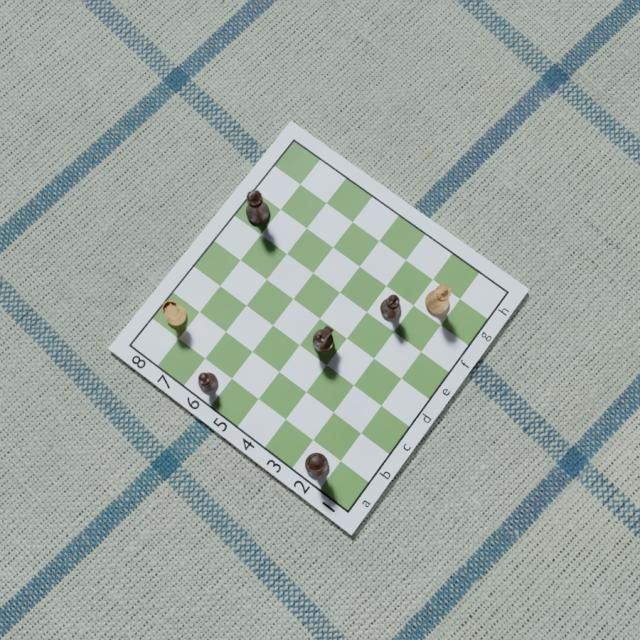black-bishop: (381, 292, 403, 321)
black-king: (245, 189, 270, 227)
black-knight: (310, 325, 333, 355)
black-pawn: (197, 373, 218, 395)
black-queen: (305, 452, 331, 479)
white-king: (426, 282, 450, 318)
white-rook: (161, 300, 187, 327)
